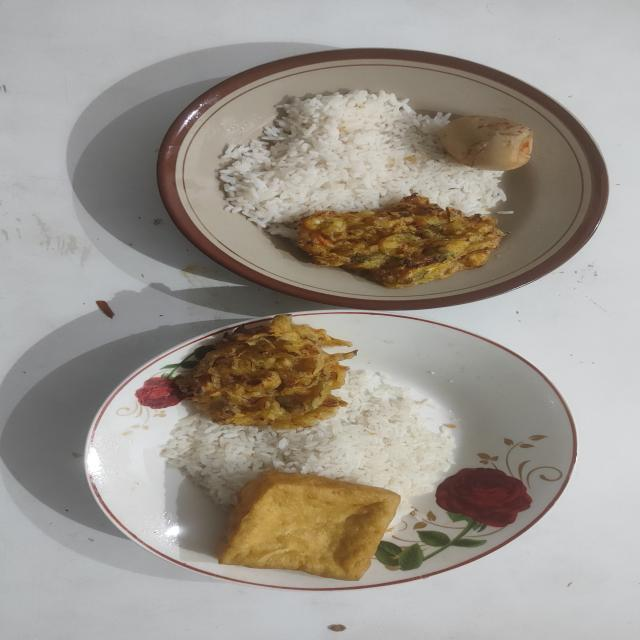nasi_putih: (160, 369, 456, 518), (218, 90, 506, 236)
tahu_goreng: (218, 472, 400, 580)
